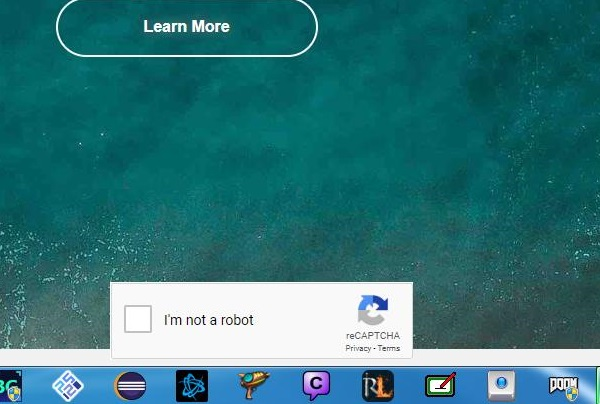captcha: (125, 305, 256, 333)
